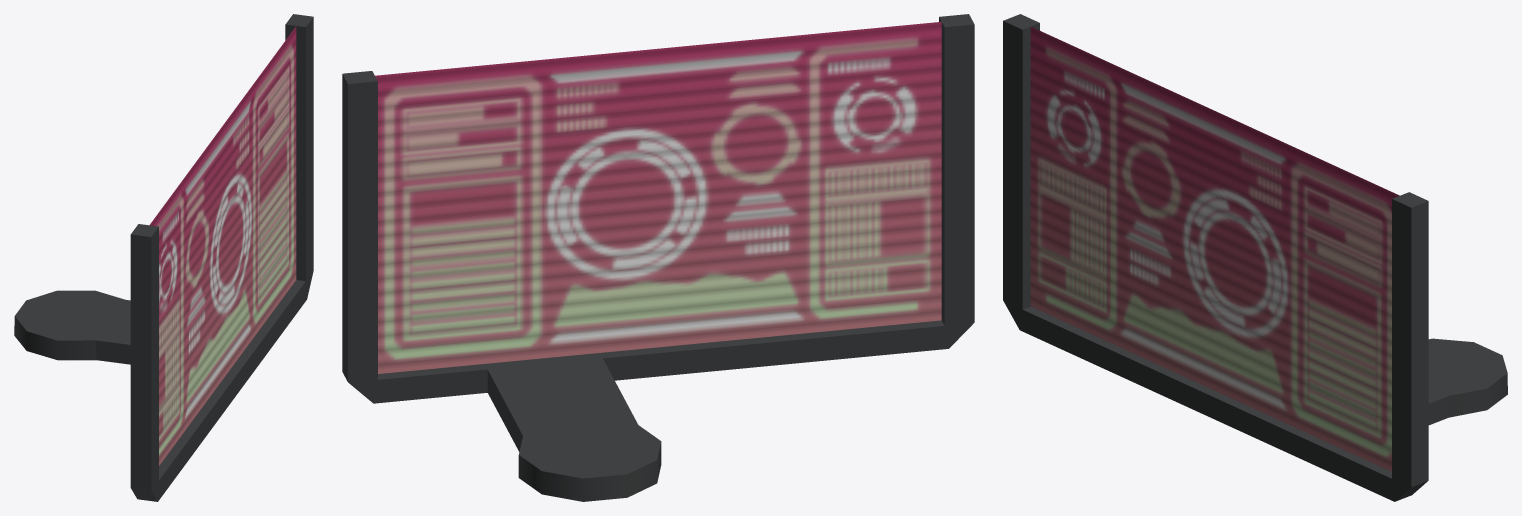
Rendered from Terminal_006_monitor_002.fbx.
3 renders of one model, left to right at view 1: azimuth 30°, elevation 25°; view 2: azimuth 150°, elevation 25°; view 3: azimuth 270°, elevation 25°, orthographic. The views are drawn at different scales.
Parts seen in each view (by area): view 1: Terminal_006_monitor_002; view 2: Terminal_006_monitor_002; view 3: Terminal_006_monitor_002.
Boxes of the visible parts, x1,y1,x2,y2 form: Terminal_006_monitor_002: [14, 14, 313, 501]; Terminal_006_monitor_002: [342, 14, 974, 501]; Terminal_006_monitor_002: [1003, 14, 1507, 501].
Bounding box in the file's own units: 41.79 × 46.01 × 30.35.
